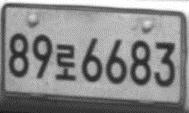3: (153, 41, 176, 87)
6: (81, 36, 103, 83), (105, 38, 127, 84)
8: (129, 40, 151, 85), (7, 33, 29, 77)
9: (31, 32, 54, 79)
로: (55, 42, 78, 82)
